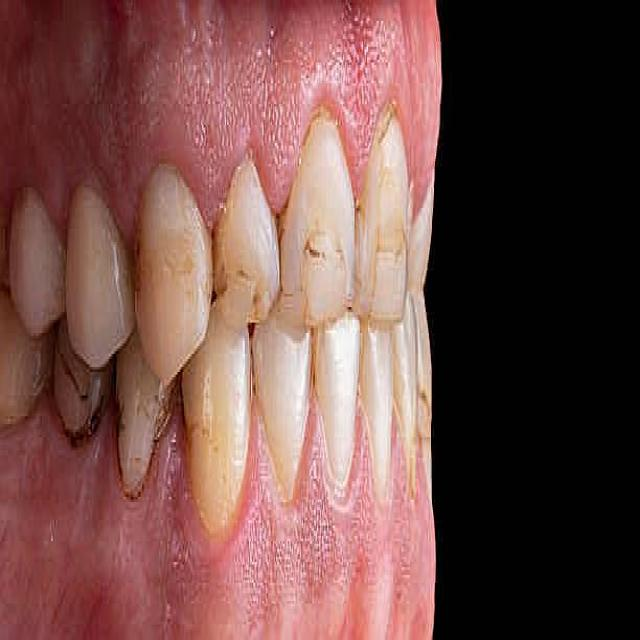caries: (292, 210, 353, 342), (363, 210, 411, 335), (214, 242, 264, 328)
